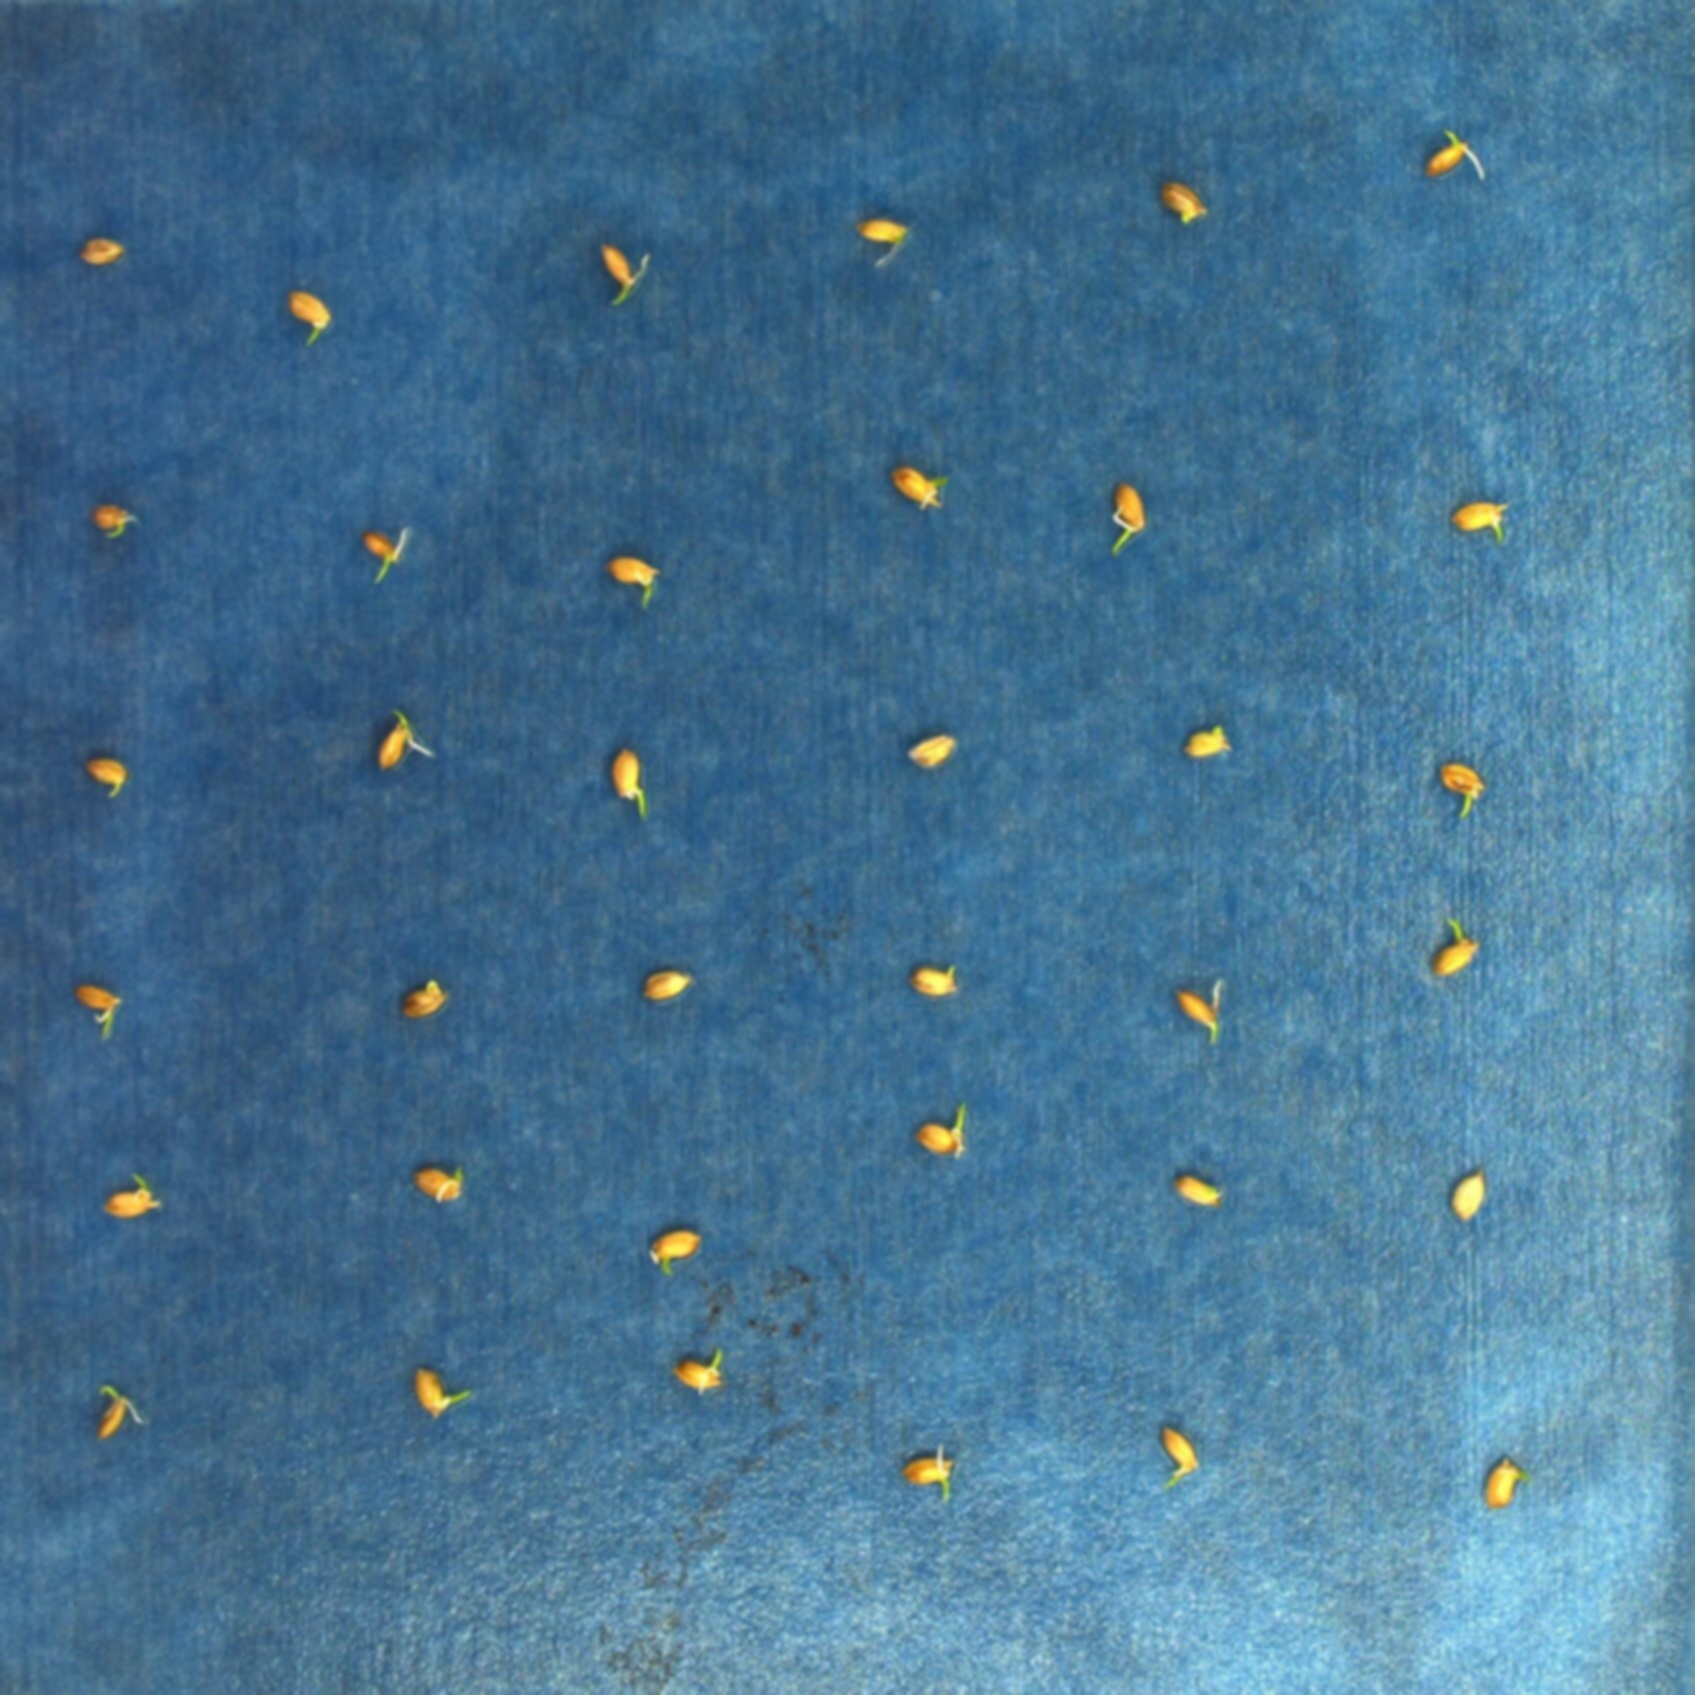not sprout: (1420, 126, 1489, 185), (1170, 979, 1226, 1048), (1440, 495, 1512, 548), (373, 706, 432, 768), (95, 1170, 165, 1218), (85, 1385, 144, 1440), (891, 464, 953, 511), (1482, 1454, 1534, 1510), (647, 1226, 705, 1274), (289, 289, 332, 348), (663, 1346, 723, 1388), (900, 734, 958, 775), (410, 1161, 466, 1200), (1159, 182, 1211, 224), (1447, 1167, 1485, 1222), (638, 962, 695, 998), (399, 976, 452, 1014), (88, 751, 126, 802), (1173, 1173, 1225, 1211), (1180, 723, 1234, 757), (913, 959, 958, 998), (76, 237, 127, 267)
sprout: (1420, 914, 1484, 978), (906, 1104, 972, 1158), (411, 1364, 472, 1420), (599, 239, 649, 304), (1150, 1419, 1195, 1490), (1105, 480, 1146, 559), (75, 976, 118, 1049), (852, 216, 908, 272), (903, 1439, 955, 1499), (601, 556, 657, 608), (360, 525, 407, 584), (610, 748, 647, 821), (1434, 761, 1479, 820), (96, 501, 140, 539)
